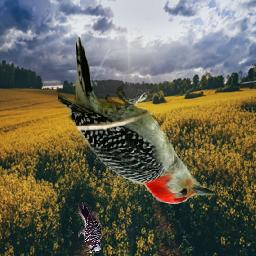Woodpecker: (59, 38, 216, 205), (79, 203, 102, 254)
